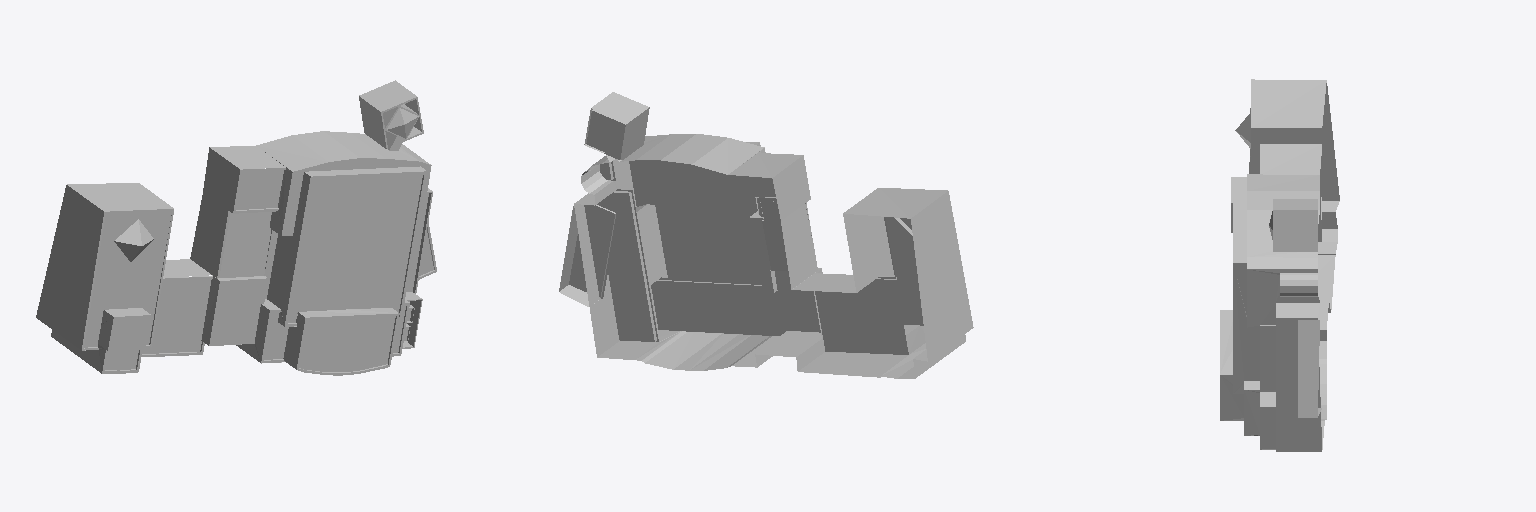
3 renders of one model, left to right at view 1: azimuth 30°, elevation 25°; view 2: azimuth 150°, elevation 25°; view 3: azimuth 270°, elevation 25°, orthographic.
Visible parts, largest first — view 1: [number redacted]; view 2: [number redacted]; view 3: [number redacted].
Boxes of the visible parts, box(x1,y1,x2,y2) form: [number redacted]: box(36, 80, 436, 375); [number redacted]: box(559, 92, 973, 378); [number redacted]: box(1220, 79, 1339, 451).
Size of the model in its own units: 98.56 by 60.88 by 27.